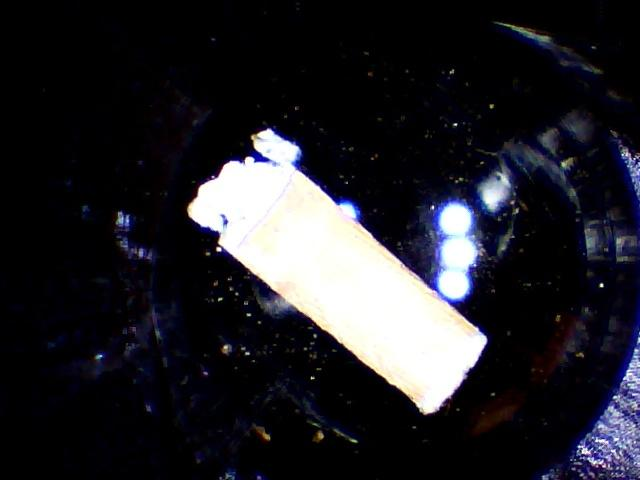megot: (175, 114, 497, 427)
